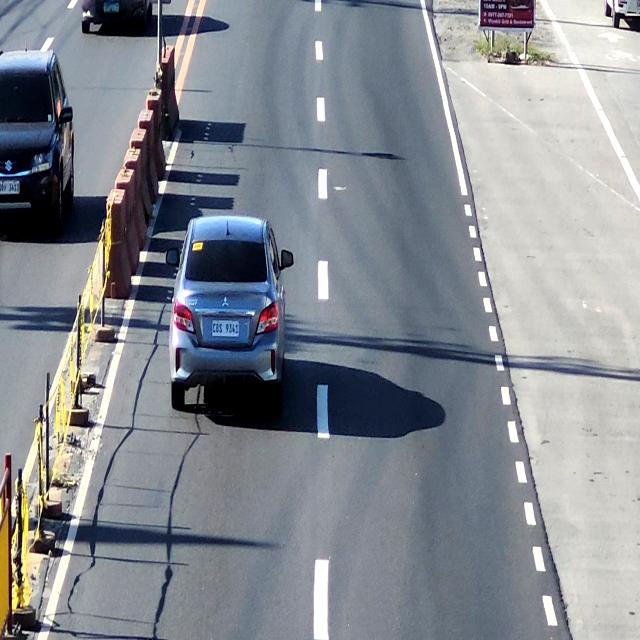Car: (173, 213, 292, 419)
License-Plate: (212, 316, 240, 342), (1, 179, 20, 200)
